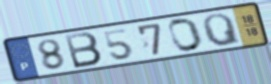5: (101, 27, 135, 62)
7: (135, 21, 163, 57)
8: (35, 38, 67, 71)
B: (62, 30, 105, 70)
O: (168, 17, 205, 53)
Q: (201, 12, 244, 48)
